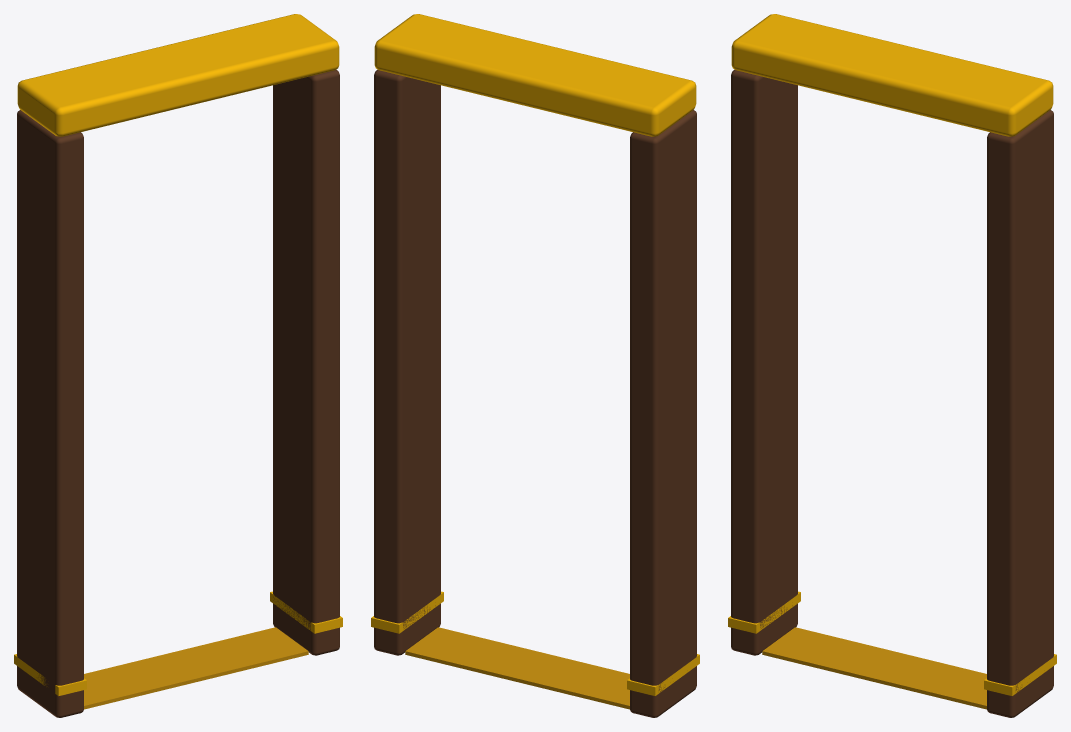
The model's file is wand_halb_tuer.glb.
3 renders of one model, left to right at view 1: azimuth 30°, elevation 25°; view 2: azimuth 150°, elevation 25°; view 3: azimuth 330°, elevation 25°, orthographic.
Visible parts, largest first — view 1: wand_halb_tuer; view 2: wand_halb_tuer; view 3: wand_halb_tuer.
Part boxes in pixels (box(x1,y1,x2,y2)): wand_halb_tuer: box(14, 14, 342, 717); wand_halb_tuer: box(371, 14, 699, 717); wand_halb_tuer: box(728, 14, 1056, 717).
Size of the model in its own units: 1 by 2.05 by 0.272.
